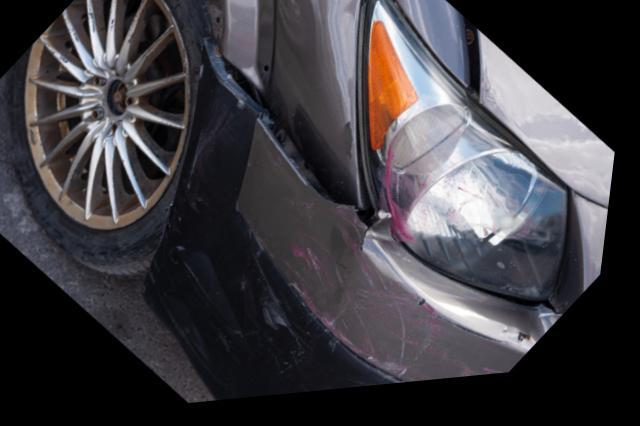crack: (551, 311, 573, 329)
dent: (326, 0, 366, 114)
scratch: (278, 218, 525, 396)
